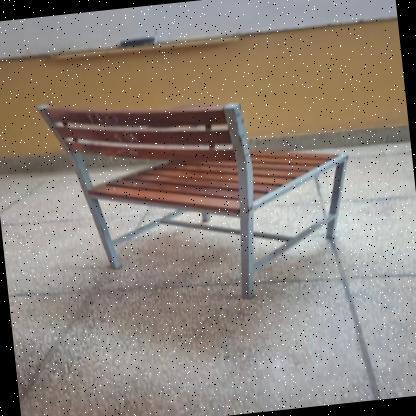chair: (32, 67, 368, 326)
